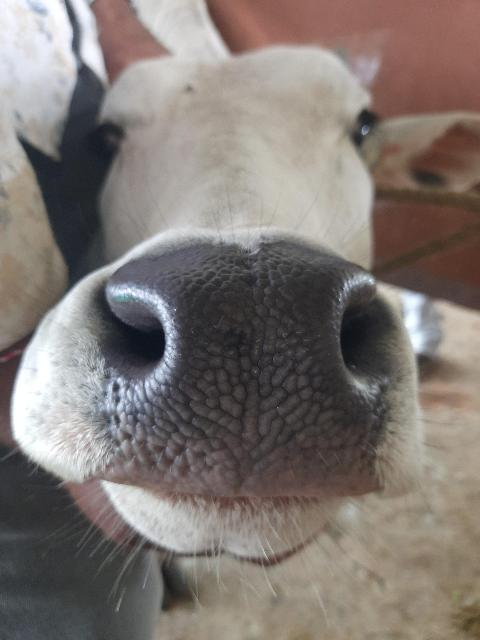Muzzle: (143, 264, 343, 498)
